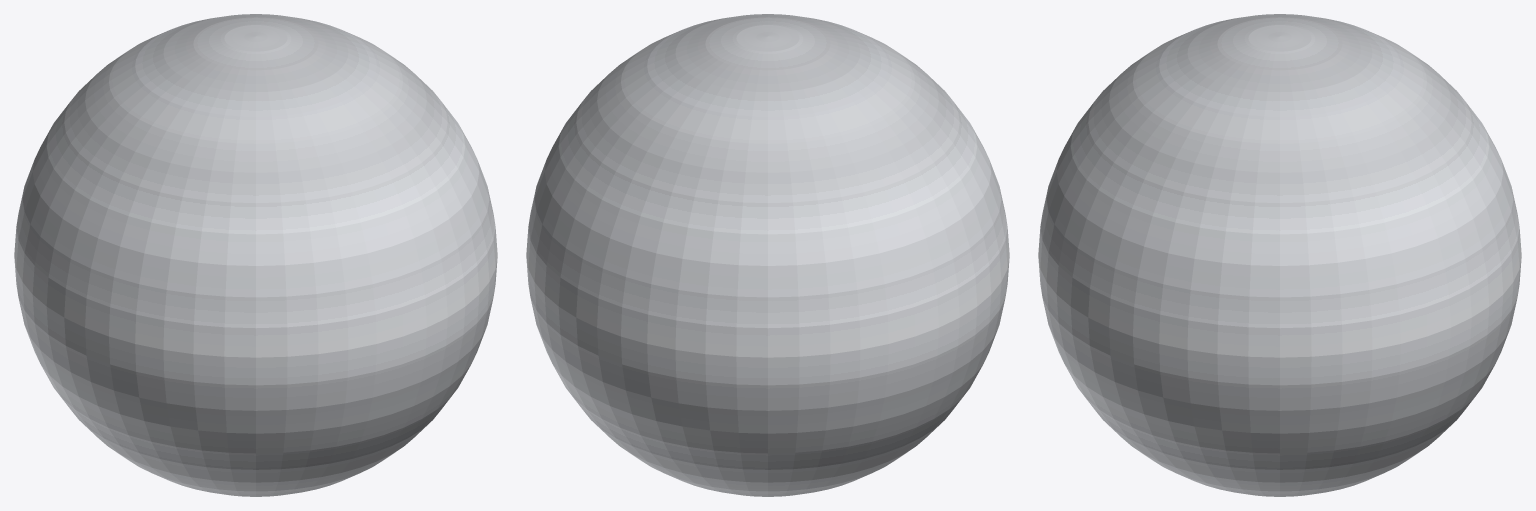
File: inbetween.glb
3 renders of one model, left to right at view 1: azimuth 30°, elevation 25°; view 2: azimuth 150°, elevation 25°; view 3: azimuth 270°, elevation 25°, orthographic.
Visible parts, largest first — view 1: InBetween; view 2: InBetween; view 3: InBetween.
Part boxes in pixels (box(x1,y1,x2,y2)): InBetween: box(14, 14, 497, 496); InBetween: box(526, 14, 1009, 496); InBetween: box(1038, 14, 1521, 496).
Bounding box in the file's own units: 160 × 160 × 160.
2 materials, 2 textured.
